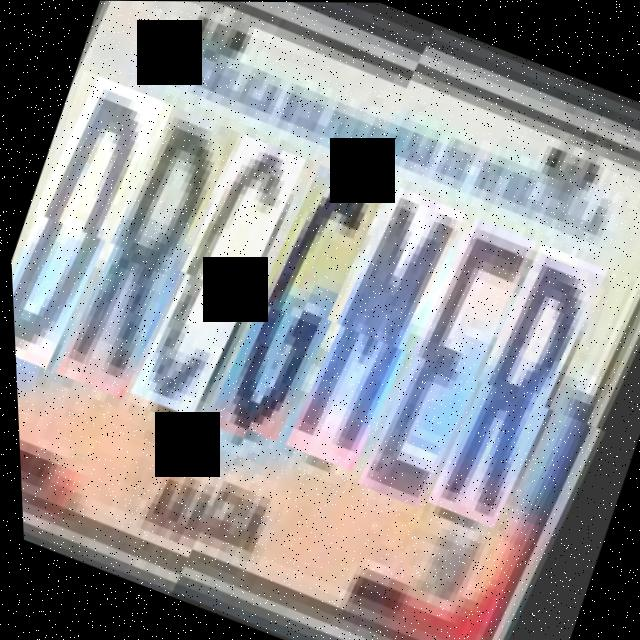C: (127, 128, 323, 428)
D: (2, 69, 181, 382)
E: (349, 218, 549, 528)
G: (202, 158, 403, 460)
M: (278, 189, 479, 491)
R: (52, 100, 257, 411), (419, 245, 619, 547)
